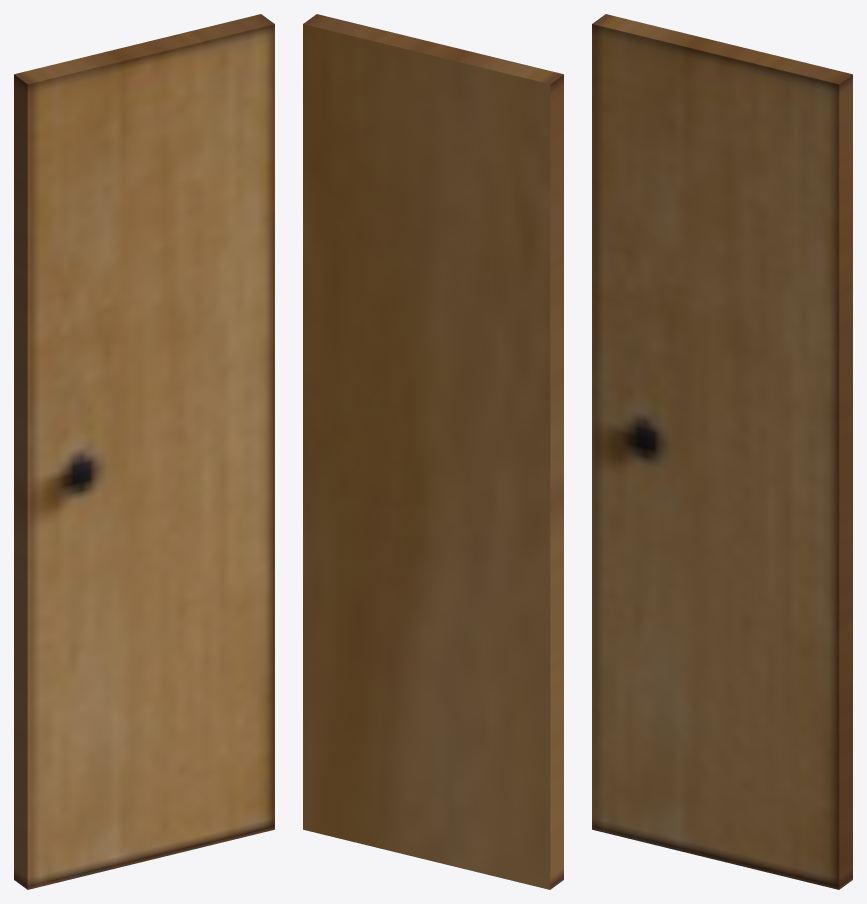
Rendered from Chest_drawers_04_006-col.glb.
3 renders of one model, left to right at view 1: azimuth 30°, elevation 25°; view 2: azimuth 150°, elevation 25°; view 3: azimuth 330°, elevation 25°, orthographic.
Visible parts, largest first — view 1: Chest_drawers_04.006-col; view 2: Chest_drawers_04.006-col; view 3: Chest_drawers_04.006-col.
Boxes of the visible parts, bbox=[...] form: Chest_drawers_04.006-col: bbox=[14, 14, 274, 889]; Chest_drawers_04.006-col: bbox=[303, 14, 563, 889]; Chest_drawers_04.006-col: bbox=[592, 14, 852, 889].
Bounding box in the file's own units: 0.2747 × 0.856 × 0.0264.
1 material, 1 textured.
